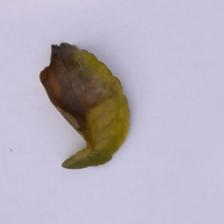black spot: (29, 34, 120, 120)
